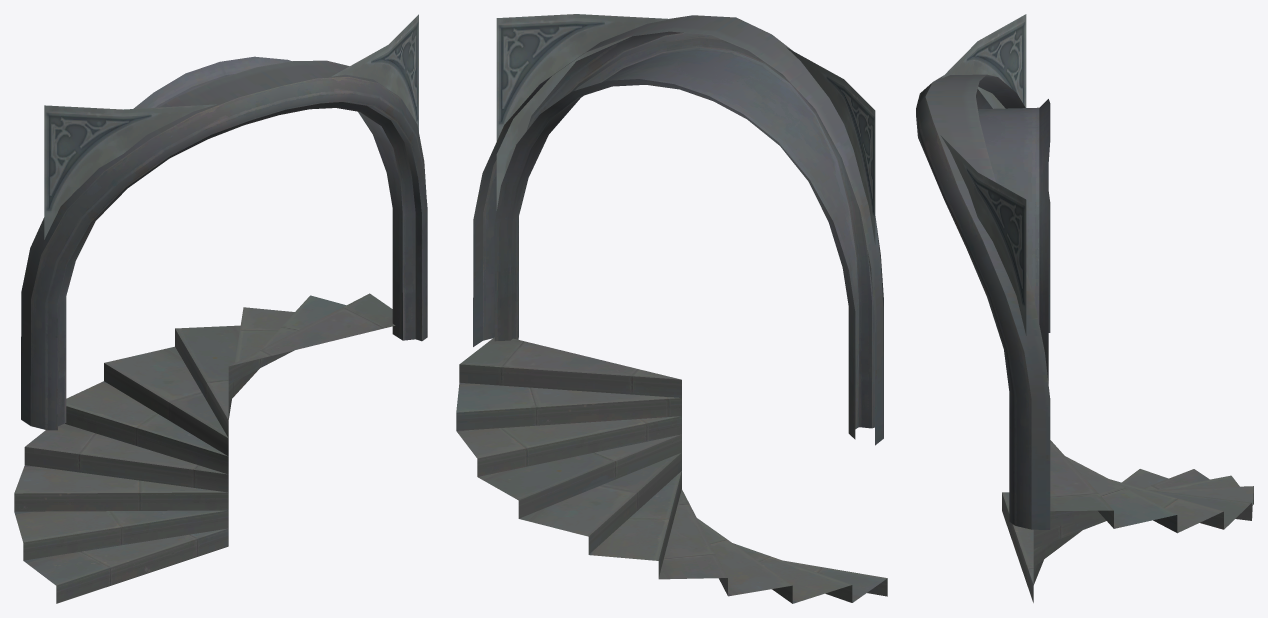
The model's file is Indoor_MdBuild_Church01_1205_0.fbx.
3 views of the same model, side by side, from view 1: azimuth 30°, elevation 25°; view 2: azimuth 150°, elevation 25°; view 3: azimuth 270°, elevation 25° (orthographic).
Parts seen in each view (by area): view 1: Indoor_MdBuild_Church01_1205_0; view 2: Indoor_MdBuild_Church01_1205_0; view 3: Indoor_MdBuild_Church01_1205_0.
Boxes of the visible parts, x1,y1,x2,y2 form: Indoor_MdBuild_Church01_1205_0: (14,14,427,603); Indoor_MdBuild_Church01_1205_0: (456,14,887,603); Indoor_MdBuild_Church01_1205_0: (916,14,1253,602).
Bounding box in the file's own units: 3.9 × 4.69 × 2.83.
